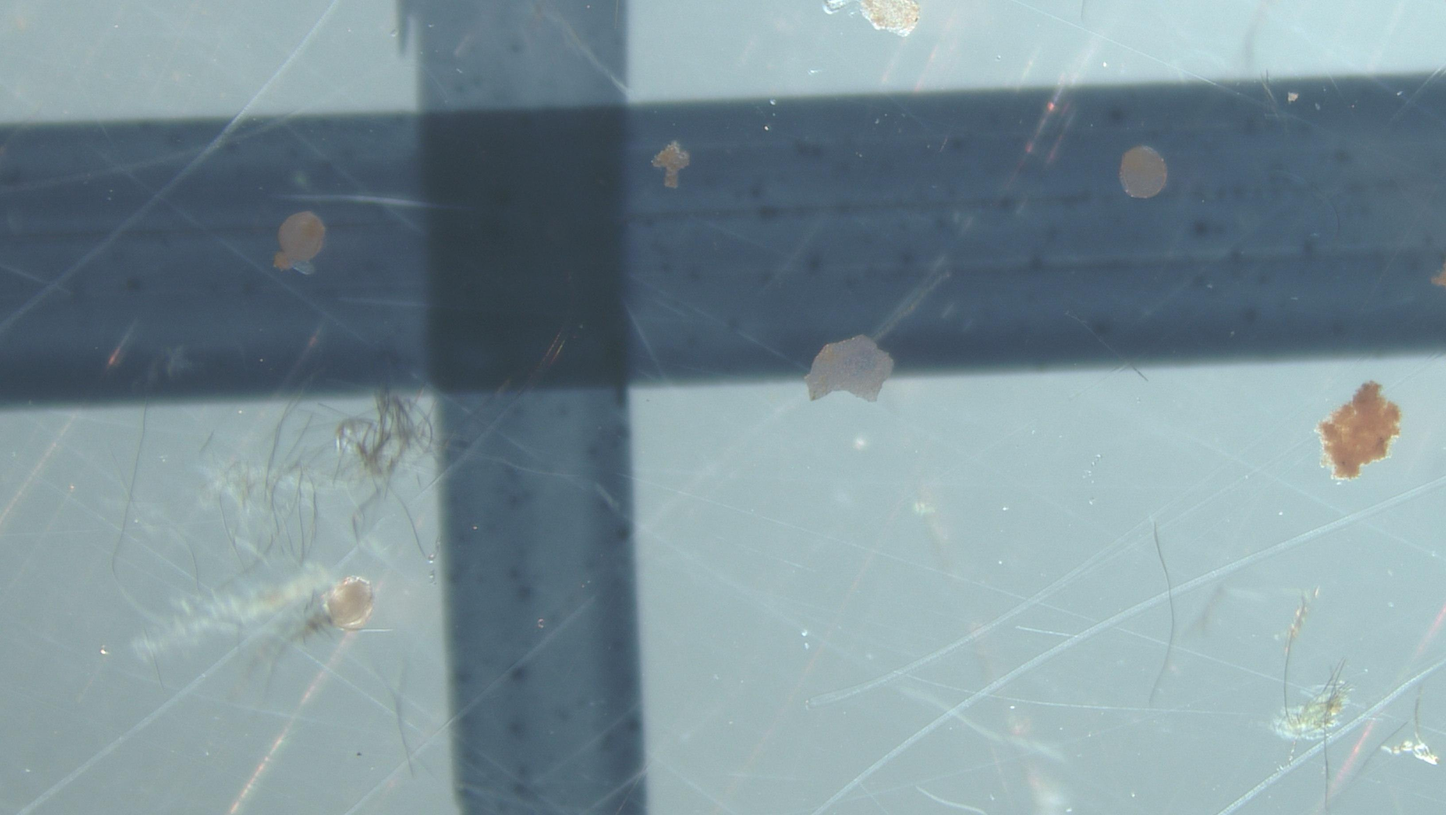live: (274, 211, 326, 274), (323, 576, 373, 630), (1119, 145, 1168, 198)
